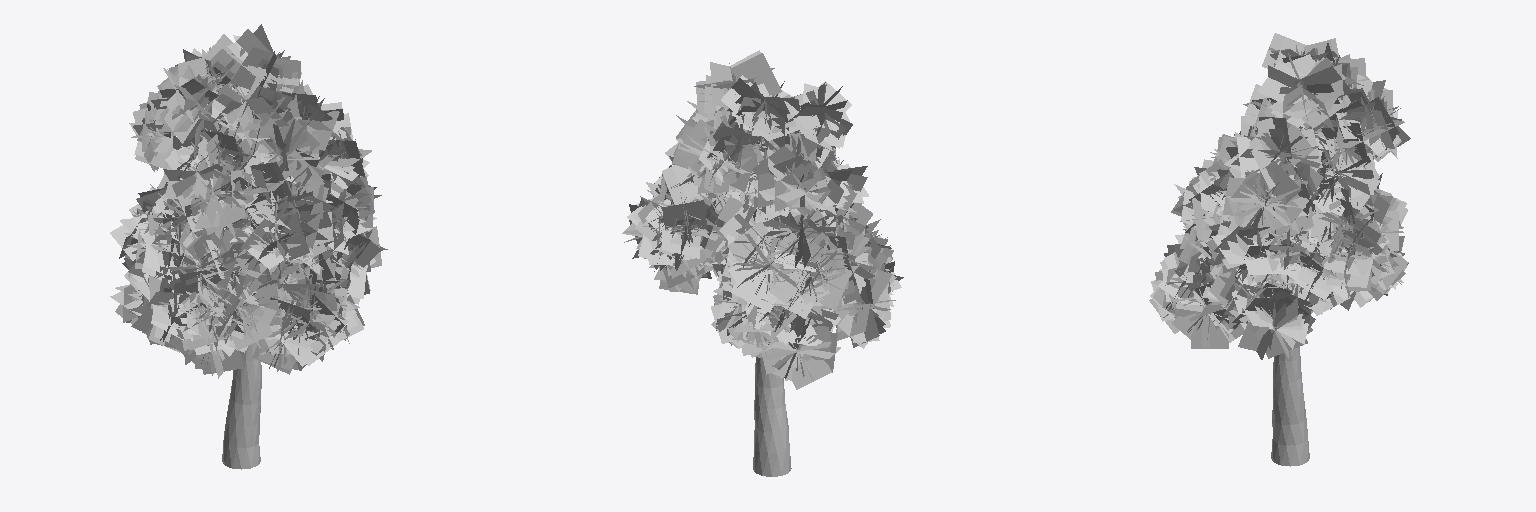
The model's file is tree_3.obj.
3 renders of one model, left to right at view 1: azimuth 30°, elevation 25°; view 2: azimuth 150°, elevation 25°; view 3: azimuth 270°, elevation 25°, orthographic.
Visible parts, largest first — view 1: Mesh_1.003, Mesh_0.003; view 2: Mesh_1.003, Mesh_0.003; view 3: Mesh_1.003, Mesh_0.003.
Boxes of the visible parts, x1=… form: Mesh_1.003: x1=110, y1=24, x2=387, y2=378; Mesh_0.003: x1=207, y1=114, x2=261, y2=469; Mesh_1.003: x1=622, y1=50, x2=903, y2=389; Mesh_0.003: x1=712, y1=137, x2=791, y2=476; Mesh_1.003: x1=1149, y1=33, x2=1410, y2=359; Mesh_0.003: x1=1271, y1=308, x2=1313, y2=466.
Size of the model in its own units: 42.08 by 70.32 by 40.41.